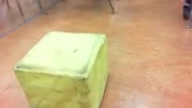cube: (12, 31, 108, 108)
